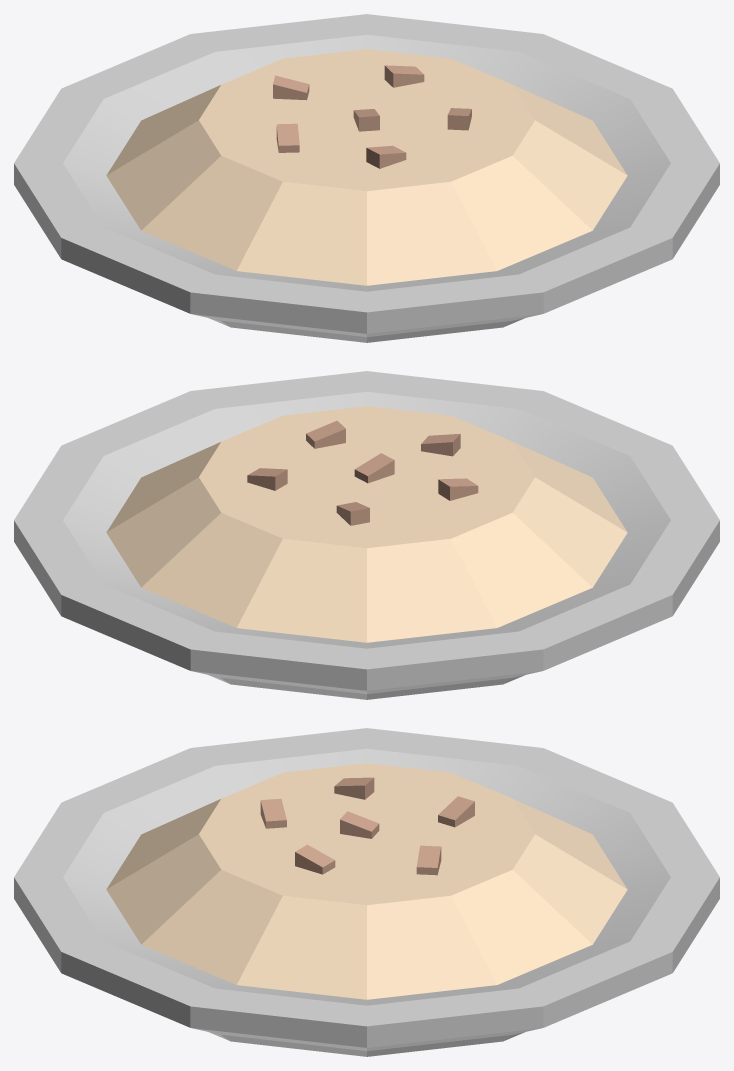
File: plateSauerkraut.glb
3 renders of one model, top to bottom at view 1: azimuth 30°, elevation 25°; view 2: azimuth 150°, elevation 25°; view 3: azimuth 270°, elevation 25°, orthographic.
Parts seen in each view (by area): view 1: plateSauerkraut; view 2: plateSauerkraut; view 3: plateSauerkraut.
Boxes of the visible parts, x1,y1,x2,y2 form: plateSauerkraut: [14, 14, 719, 342]; plateSauerkraut: [14, 371, 719, 699]; plateSauerkraut: [14, 728, 719, 1056].
Size of the model in its own units: 0.8918 by 0.17 by 0.8918.
